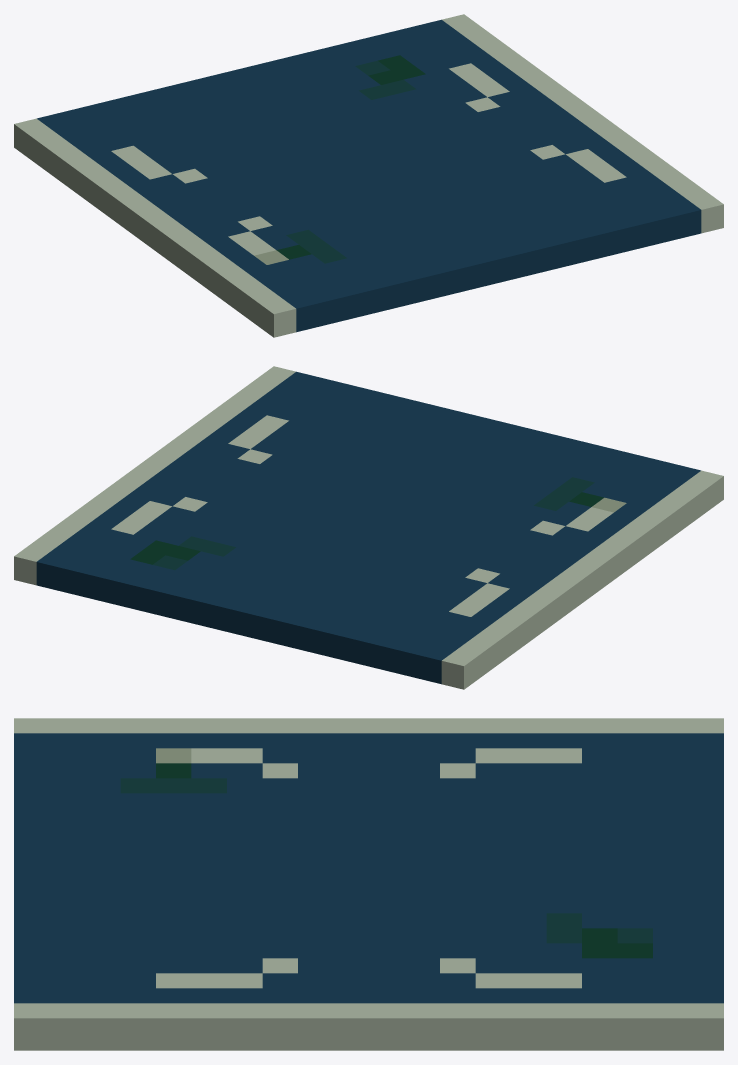
The model's file is BlueRug_Mid_01.obj.
The picture shows the model from 3 angles, top to bottom: view 1: azimuth 30°, elevation 25°; view 2: azimuth 150°, elevation 25°; view 3: azimuth 270°, elevation 25°; orthographic projection. The views are drawn at different scales.
Parts seen in each view (by area): view 1: BlueRug_Mid_01.001; view 2: BlueRug_Mid_01.001; view 3: BlueRug_Mid_01.001.
Part boxes in pixels (x1,y1,x2,y2): BlueRug_Mid_01.001: (14, 14, 723, 337); BlueRug_Mid_01.001: (14, 366, 723, 689); BlueRug_Mid_01.001: (14, 718, 723, 1050).
Size of the model in its own units: 2 by 0.1 by 2.
